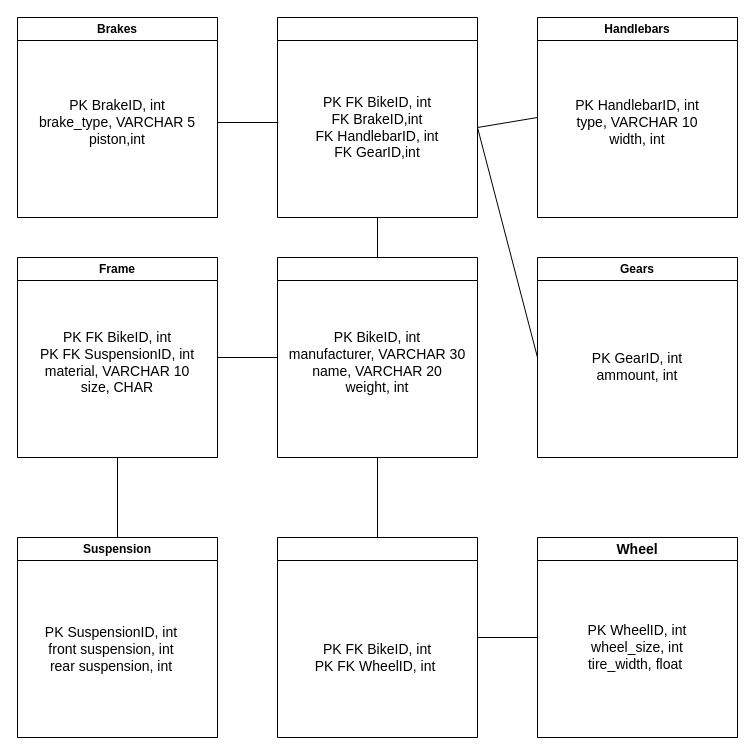
This 755x755 diagram has some shape labels left out. The shapes that lost their labels are listed below. From the top down, each one's box as (x1, y1, x2, y2) in pixels, then its label:
(276, 16, 478, 218): Setup
(276, 256, 478, 458): Bicycle
(276, 536, 478, 738): Wheel_setup
